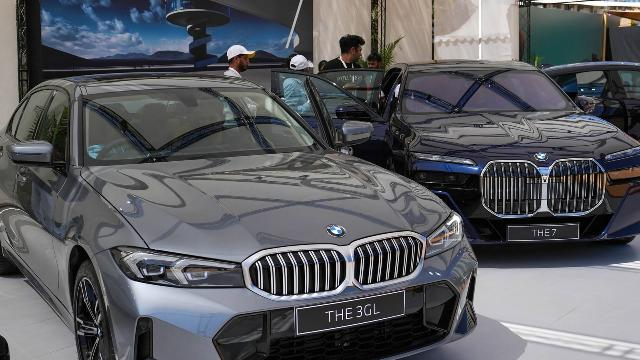bmw: (0, 72, 478, 360), (270, 61, 640, 246)
